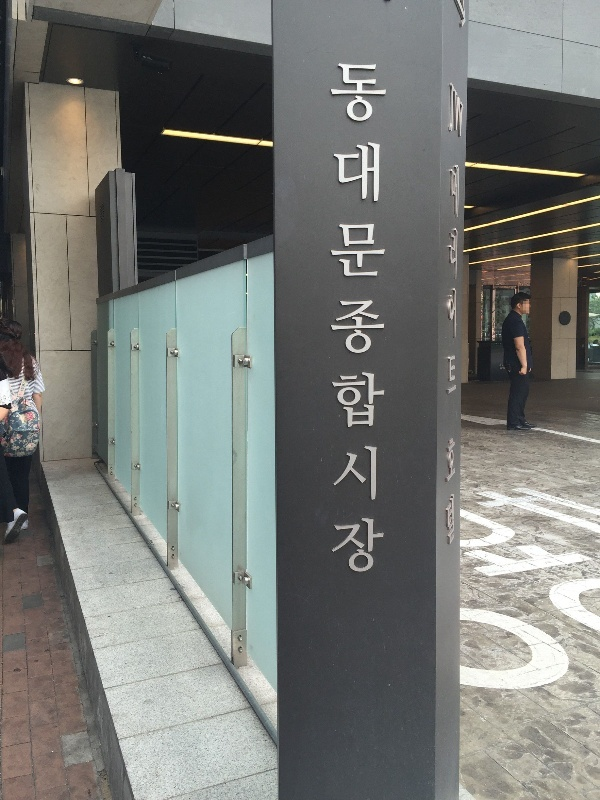text: (337, 58, 352, 583), (353, 58, 368, 583), (369, 58, 384, 583), (329, 58, 336, 583), (451, 159, 464, 401), (385, 58, 388, 583), (450, 81, 464, 142), (449, 434, 456, 550), (445, 434, 448, 550)
